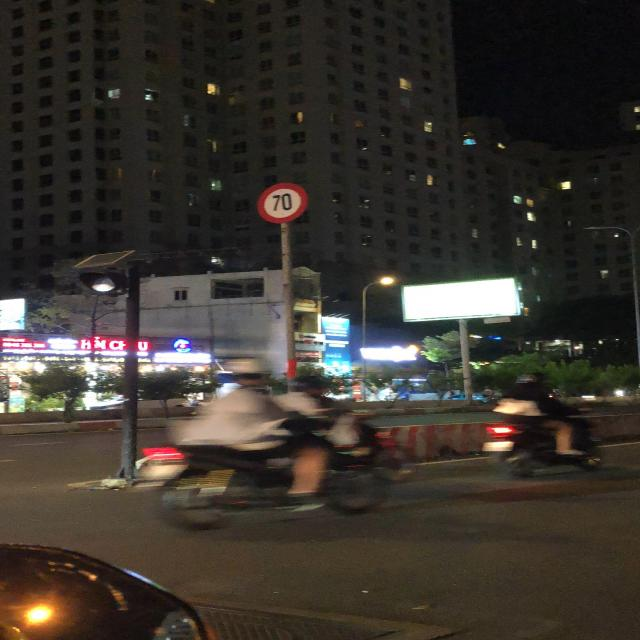Bien bao toc do toi da cho phep: (248, 181, 313, 222)
